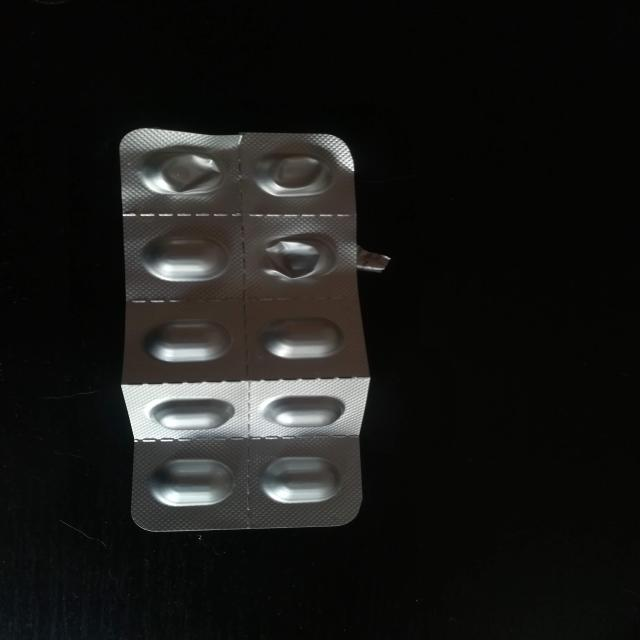Empty: (130, 144, 237, 198), (250, 147, 341, 199), (253, 233, 344, 284)
Pill: (143, 456, 239, 510), (138, 230, 232, 283), (257, 454, 347, 506), (139, 318, 238, 364), (259, 315, 353, 362), (142, 395, 240, 434), (257, 391, 348, 431)
